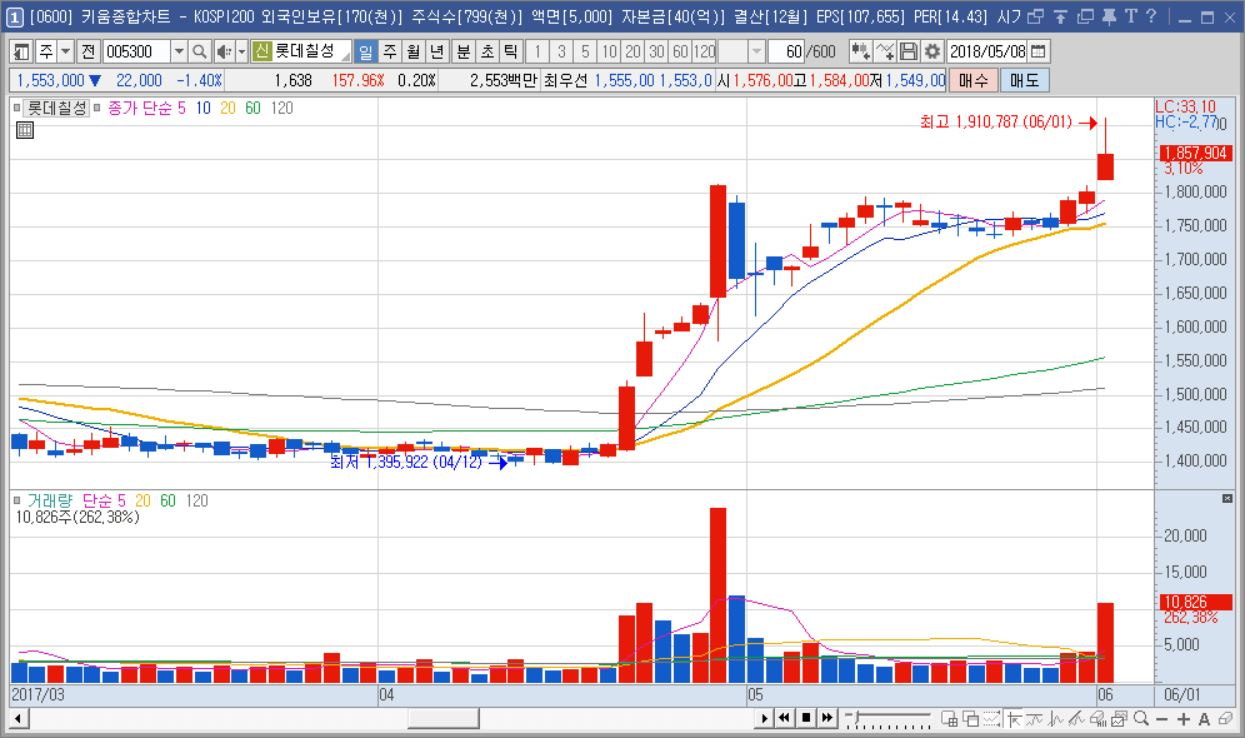up: (616, 110, 1116, 682)
